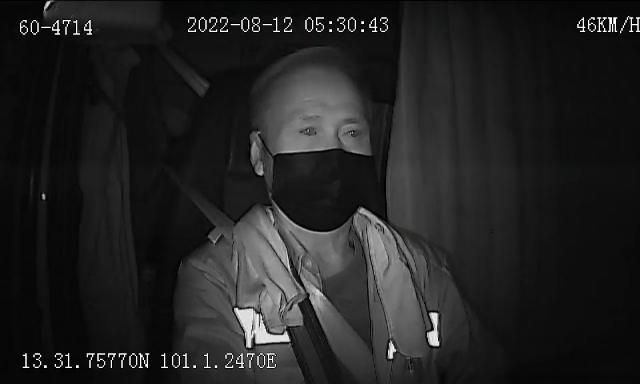SafeDriving: (336, 118, 370, 146), (292, 118, 326, 142)
Seatbelt: (165, 150, 337, 384)
